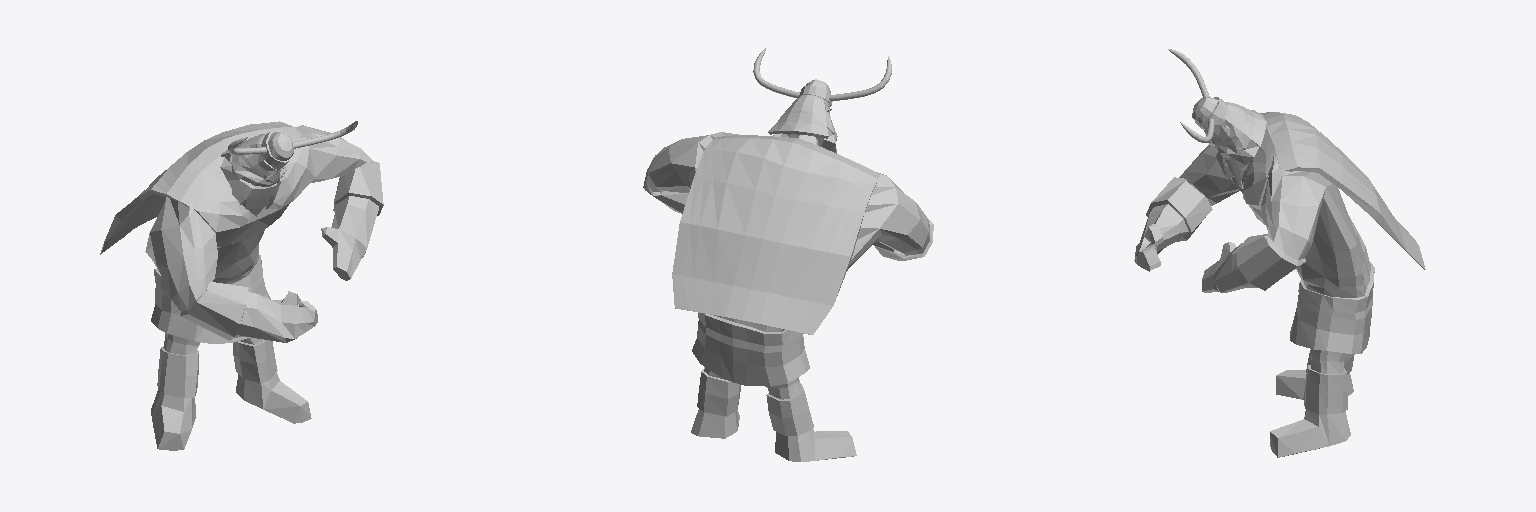
The model's file is vikingoCelebracionobj_000499.obj.
3 renders of one model, left to right at view 1: azimuth 30°, elevation 25°; view 2: azimuth 150°, elevation 25°; view 3: azimuth 270°, elevation 25°, orthographic.
Visible parts, largest first — view 1: Vikingo; view 2: Vikingo; view 3: Vikingo.
Boxes of the visible parts, <box> form: Vikingo: <box>100,121,383,450</box>; Vikingo: <box>643,48,933,461</box>; Vikingo: <box>1134,49,1425,457</box>.
Size of the model in its own units: 4.54 by 6.32 by 4.76.